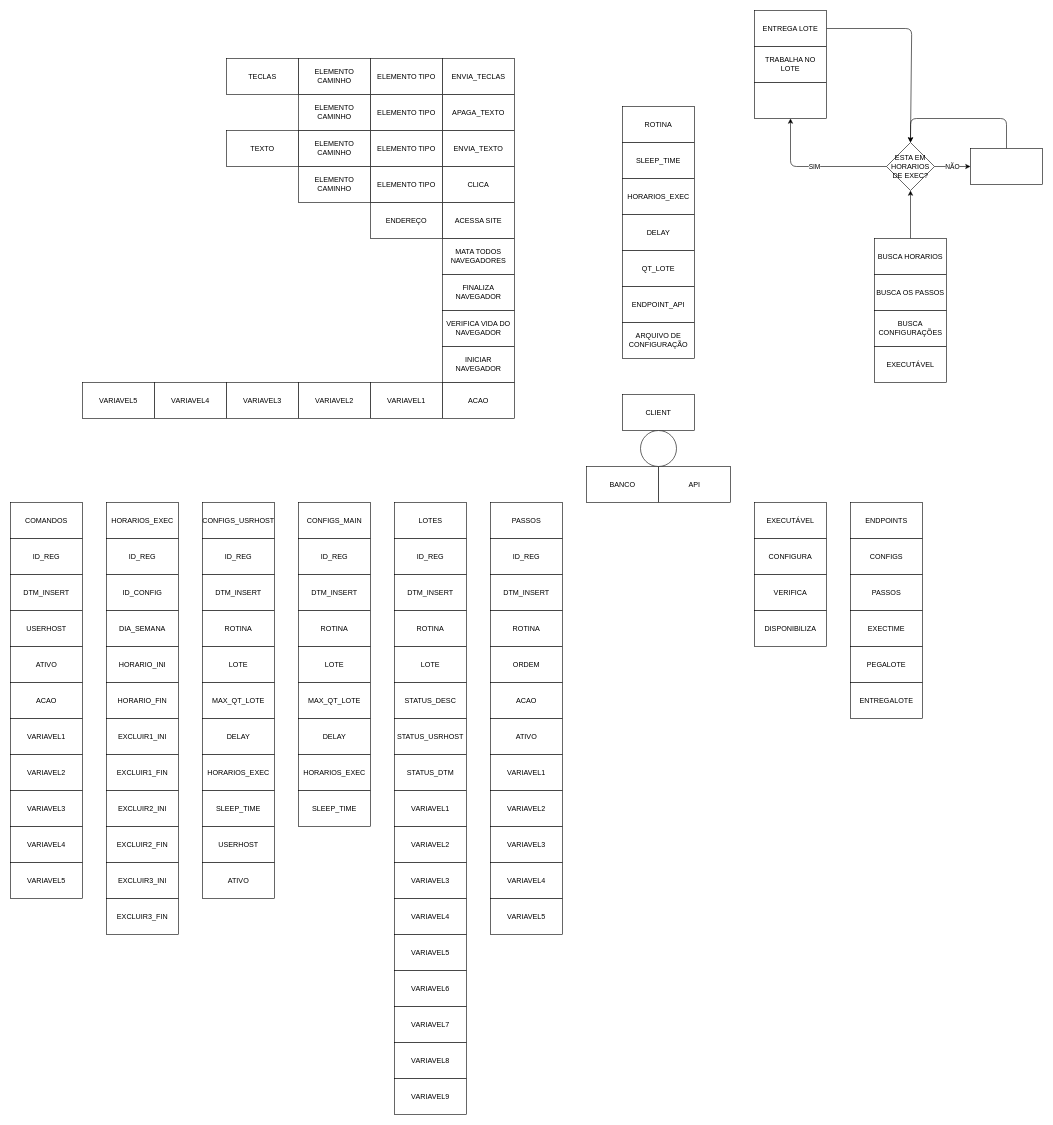
This 1053x1125 diagram has some shape labels left out. Each missing label, with the centre of its shape:
"DORME UM POUCO" goes at point (1006, 166).
"PEGA LOTE" goes at point (790, 100).
